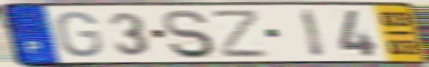3: (106, 11, 151, 58)
4: (336, 7, 380, 59)
G: (54, 10, 106, 59)
I: (299, 7, 329, 59)
S: (160, 8, 218, 60)
Z: (209, 8, 271, 60)
